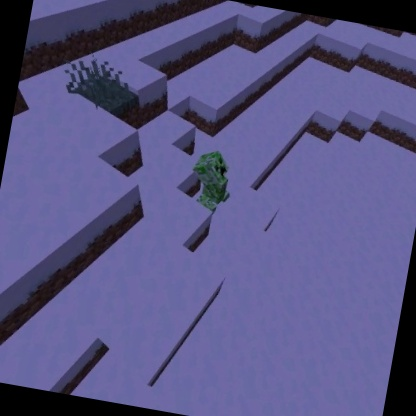creeper: (183, 145, 241, 217)
